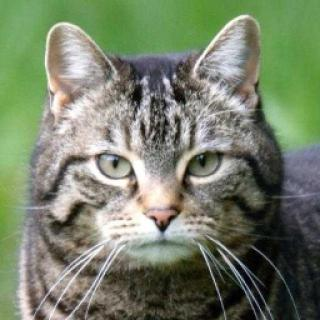cat: (38, 18, 274, 277)
nose: (138, 177, 180, 237)
